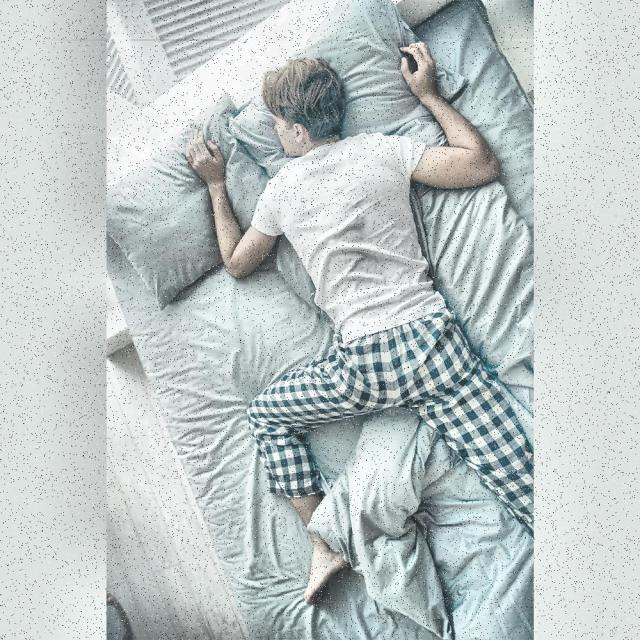Not_Supine: (186, 42, 532, 528), (305, 535, 346, 602)
